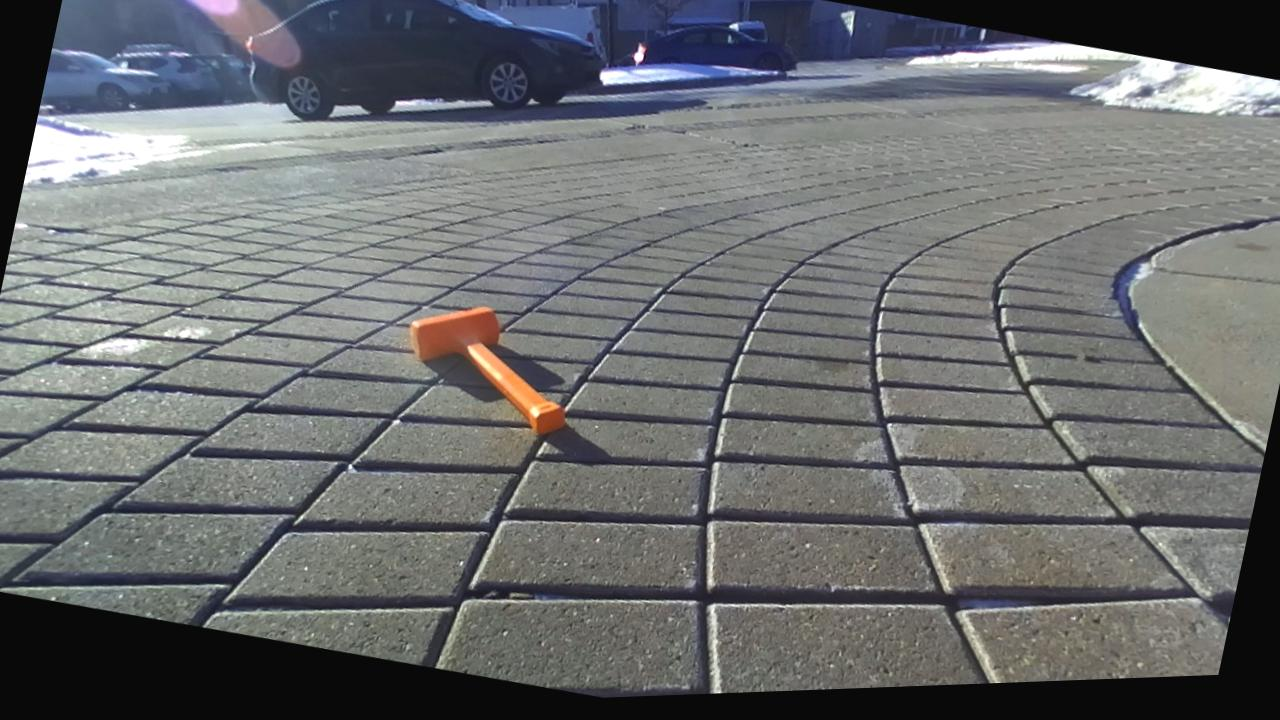mallet: (408, 307, 563, 433)
